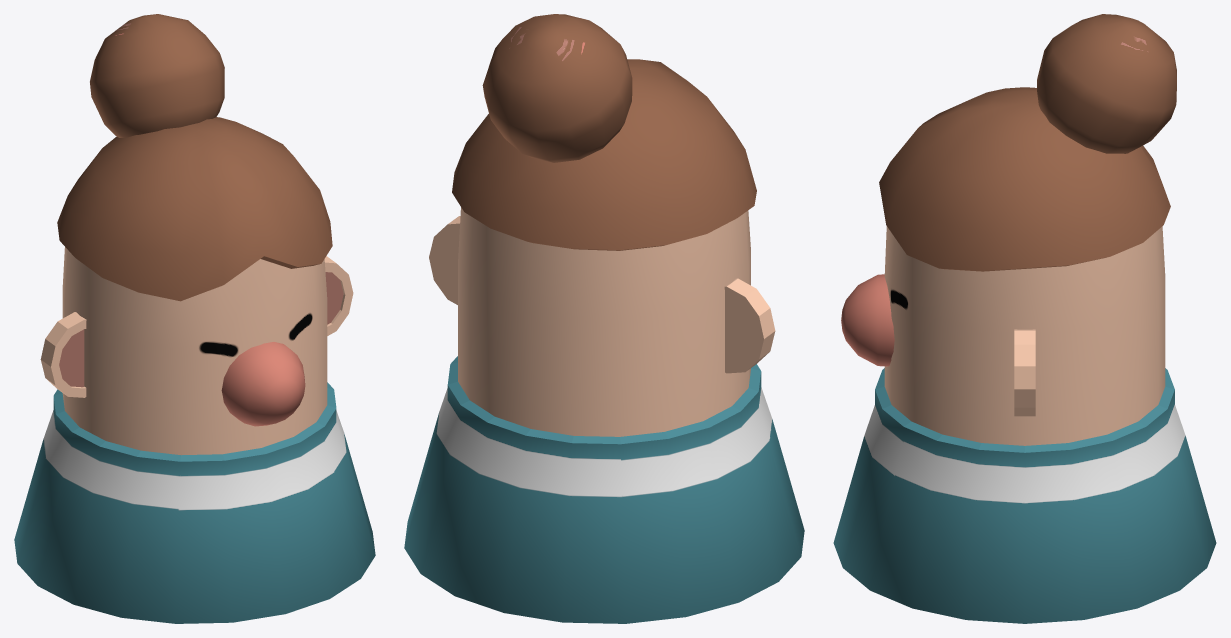
The model's file is cewe.fbx.
3 views of the same model, side by side, from view 1: azimuth 30°, elevation 25°; view 2: azimuth 150°, elevation 25°; view 3: azimuth 270°, elevation 25° (orthographic). The views are drawn at different scales.
Parts seen in each view (by area): view 1: orang cewe; view 2: orang cewe; view 3: orang cewe.
Part boxes in pixels (x1,y1,x2,y2): orang cewe: (14,14,375,623); orang cewe: (404,14,804,623); orang cewe: (833,14,1216,623).
Size of the model in its own units: 159 by 266 by 159.
Materials: 1 (1 with a texture image).
